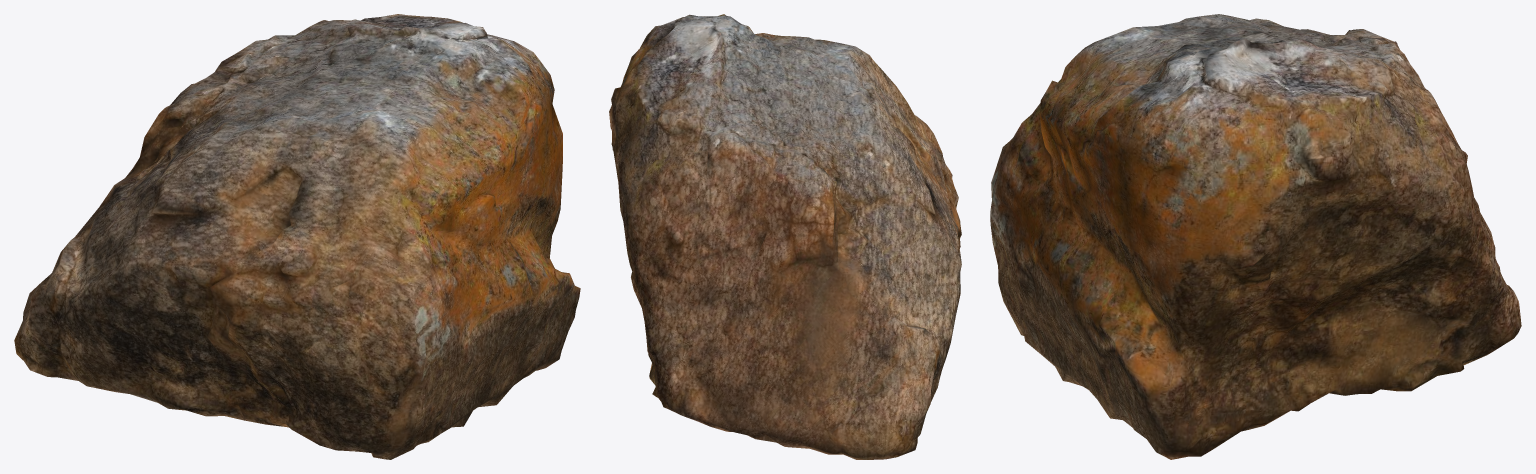
File: namaqualand_boulder_04.glb
3 views of the same model, side by side, from view 1: azimuth 30°, elevation 25°; view 2: azimuth 150°, elevation 25°; view 3: azimuth 270°, elevation 25° (orthographic). The views are drawn at different scales.
Visible parts, largest first — view 1: boulder_04; view 2: boulder_04; view 3: boulder_04.
Boxes of the visible parts, x1,y1,x2,y2 form: boulder_04: (14, 14, 580, 459); boulder_04: (609, 14, 961, 459); boulder_04: (990, 14, 1521, 459).
Bounding box in the file's own units: 2.52 × 1.9 × 2.48.
1 material, 1 textured.
